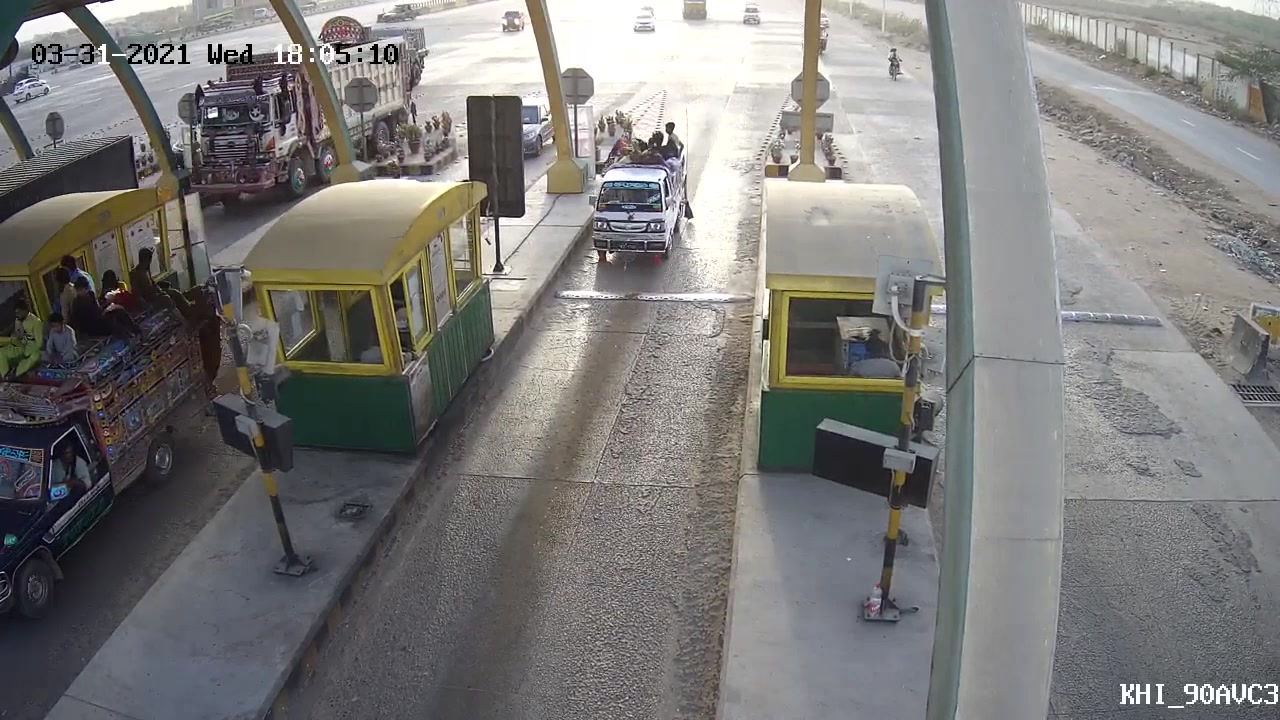F1: (578, 125, 695, 268)
